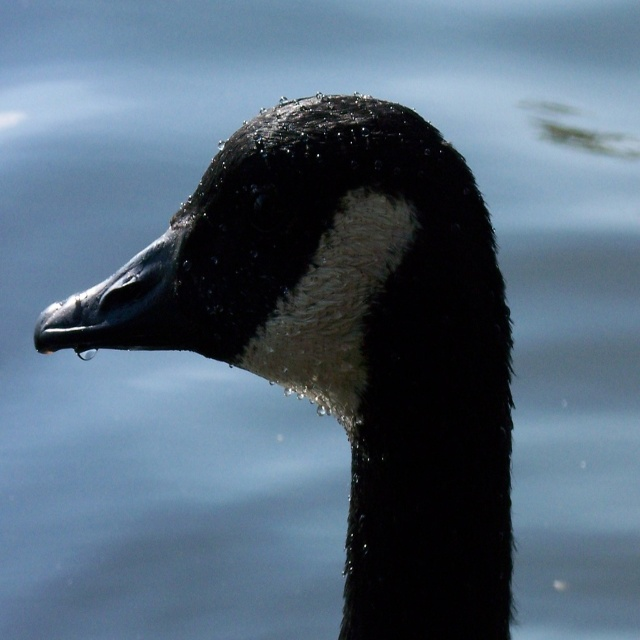Goose: (34, 94, 519, 640)
